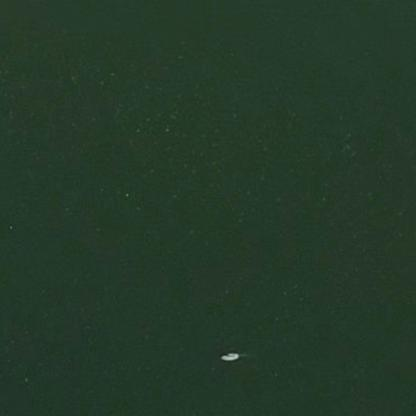ship: (216, 350, 242, 362)
